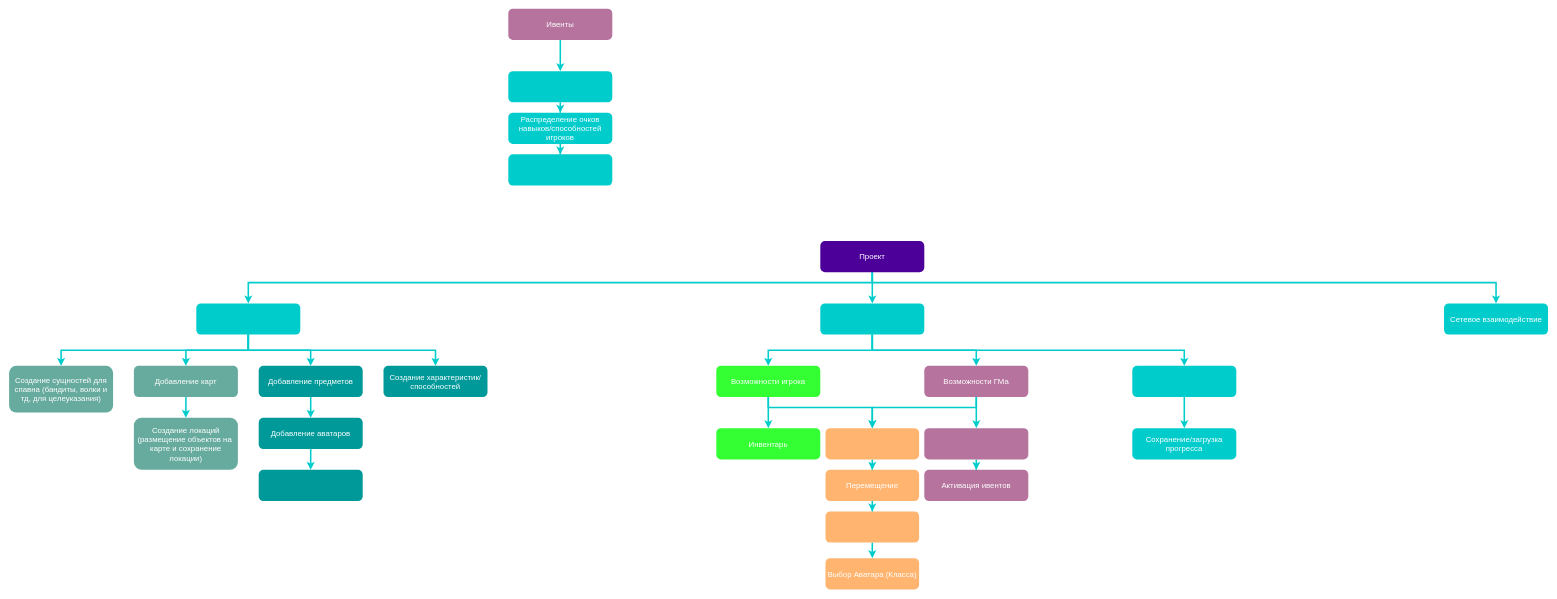
This 1557x599 diagram has some shape labels left out. Each missing label, with the centre of its shape:
Блокнот: (x=872, y=526)
Добавление подсказок для ГМа: (x=310, y=485)
Игровая логика: (x=872, y=318)
Игровой процесс: (x=1184, y=381)
Конструктор тематических паков: (x=248, y=318)
Кубики: (x=872, y=443)
Распределение эффектов по игрокам: (x=560, y=169)
Смена локации/карты: (x=976, y=443)
Спавн сущностей: (x=560, y=86)
